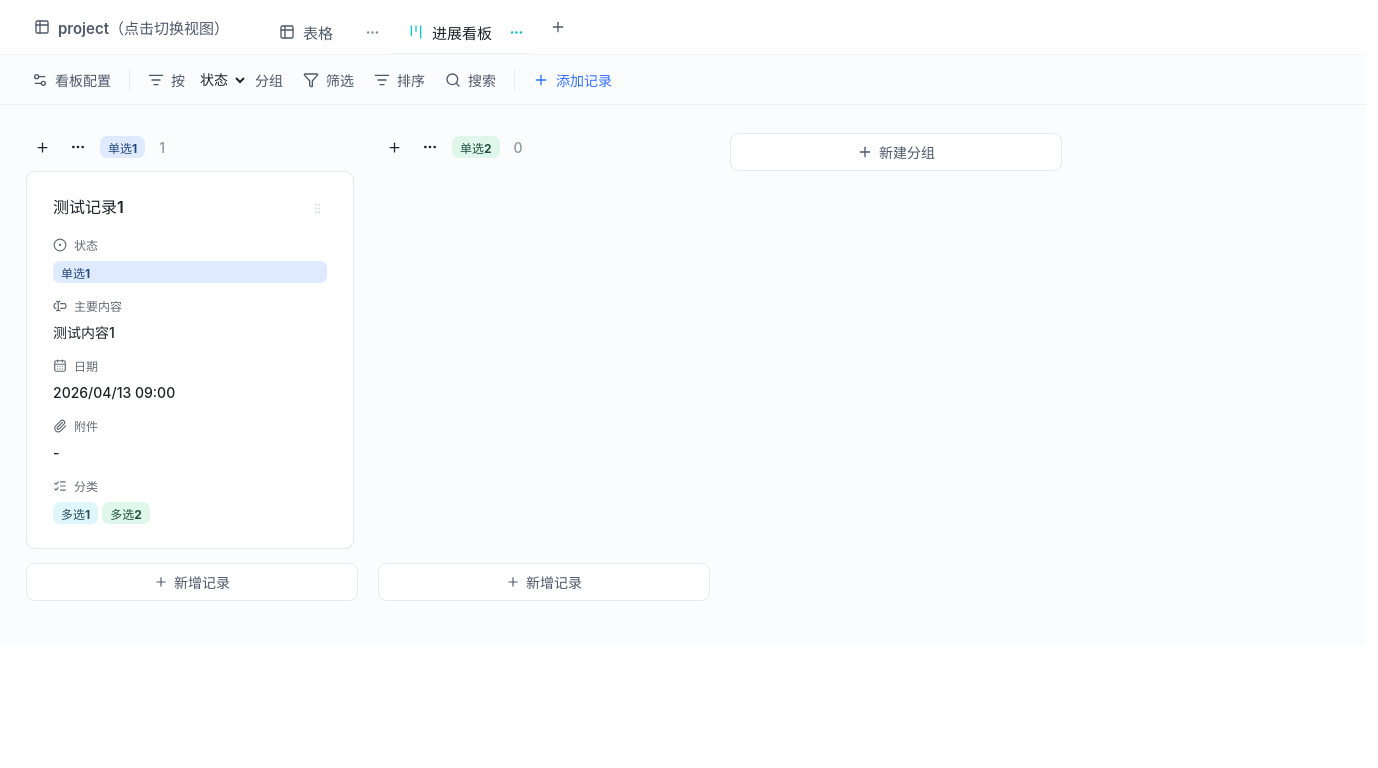
Scenario: 默认打开看板视图并能切换到表格视图
What coordinates should you click on to do the following:
click the tab "表格"
I would click on:
 (303, 32)
Its box is [247,10,359,54].
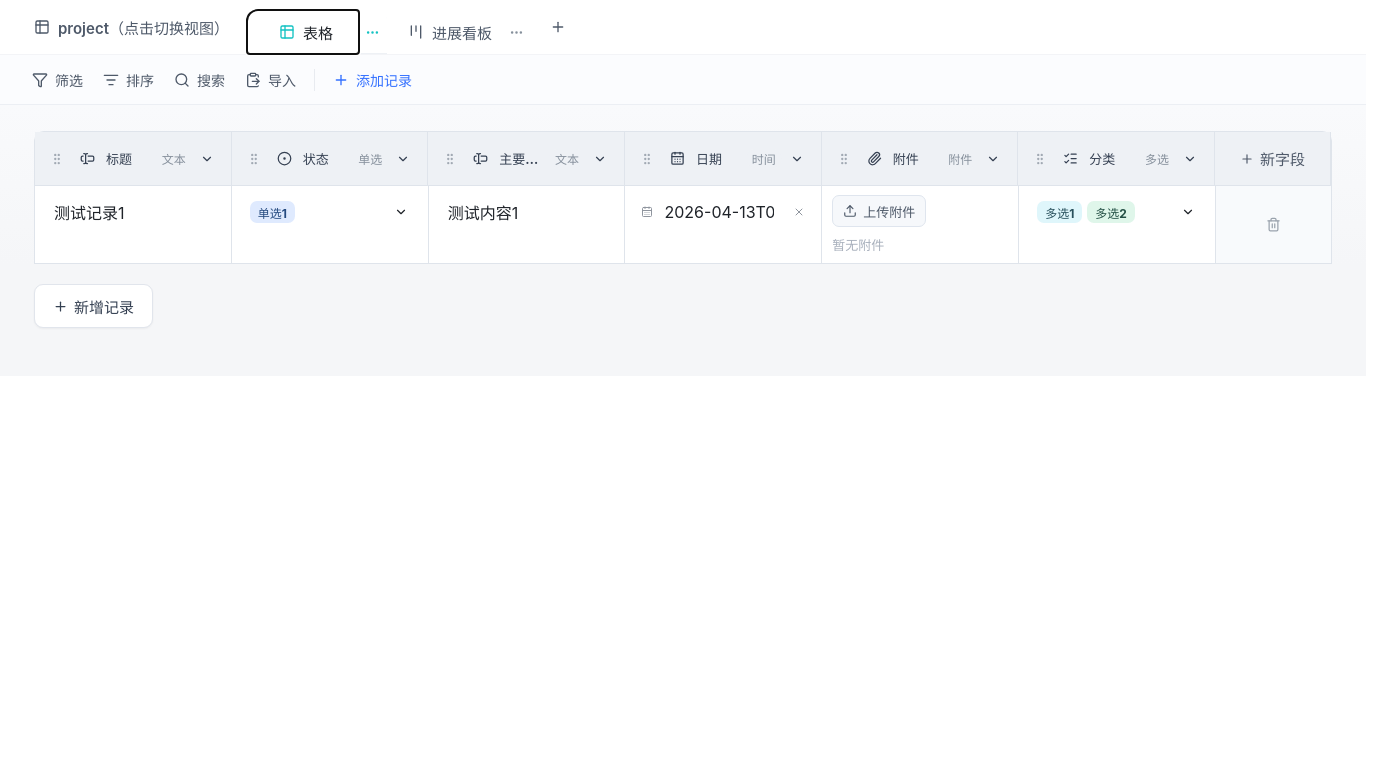
Now the element with test id "multitable-grid" is shown, box [0,105,1366,376]
